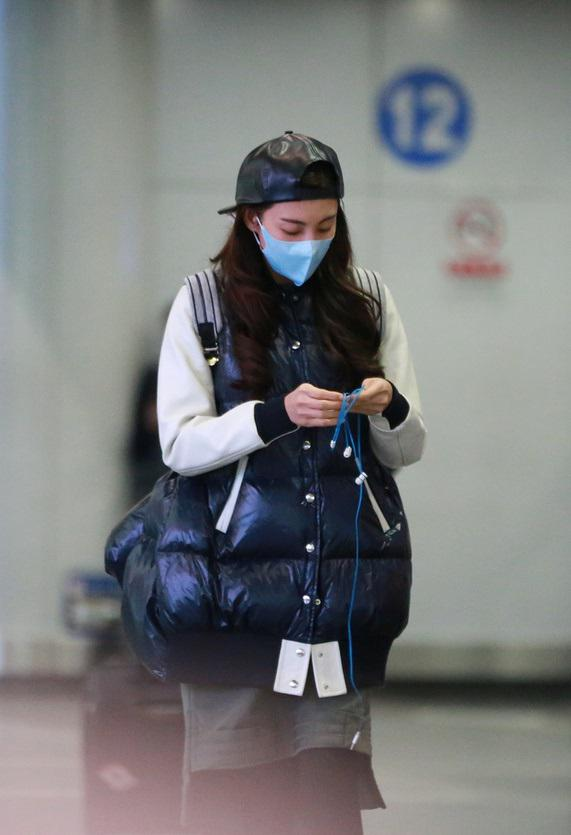OK: (261, 209, 343, 287)
